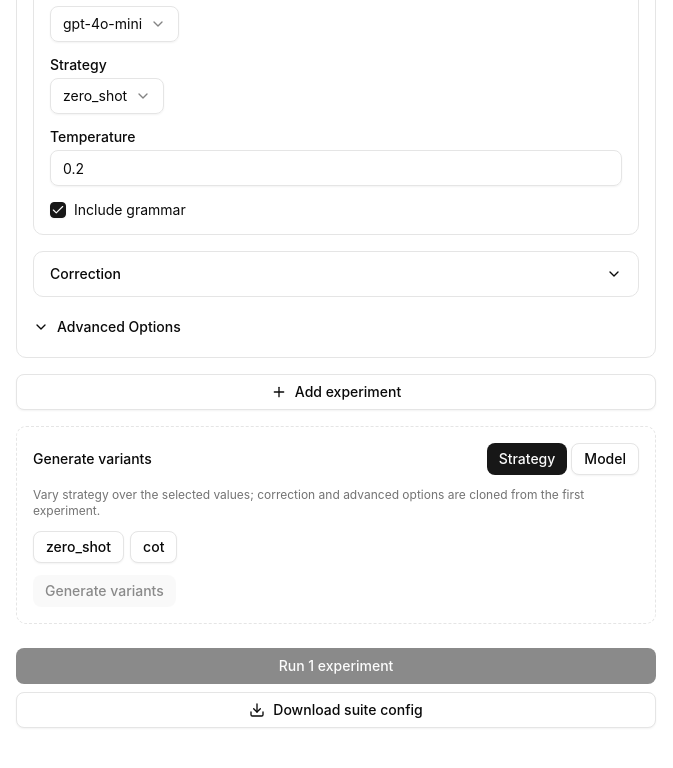
Scenario: ExperimentsPage › removes an experiment (and keeps at least one)
This screenshot has width=673, height=768.
(page scrolled)
Click the button "Add experiment" at [336, 392], box [16, 374, 656, 410]
(page scrolled)
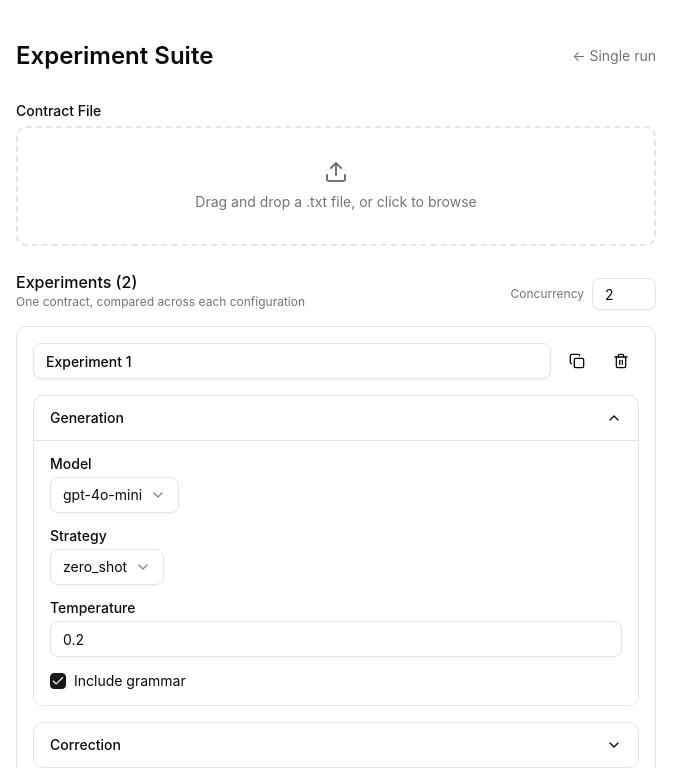
Now the text "Experiments (2)" is shown, box [16, 272, 137, 292]
Click the button titled "Remove" at [621, 361], box [603, 343, 639, 379]
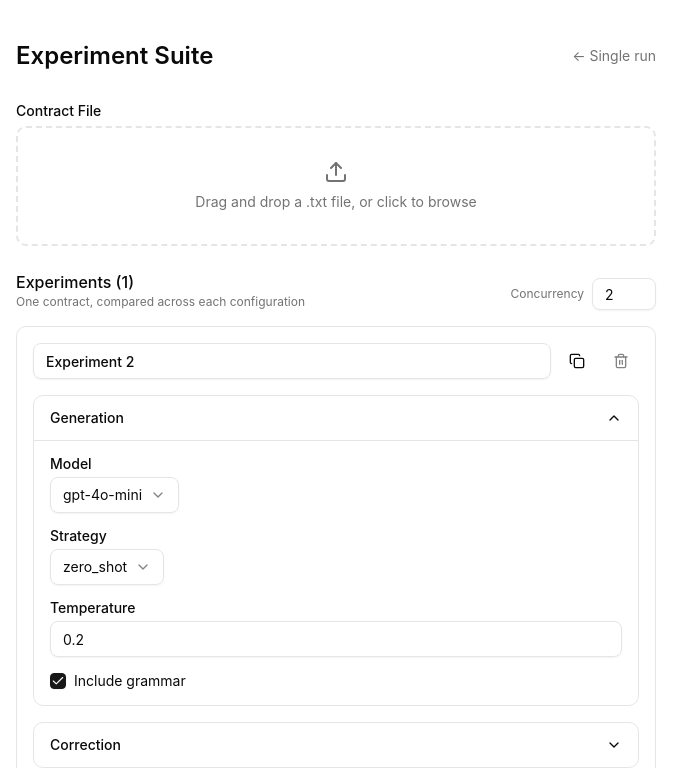
Now the text "Experiments (1)" is shown, box [16, 272, 134, 292]
